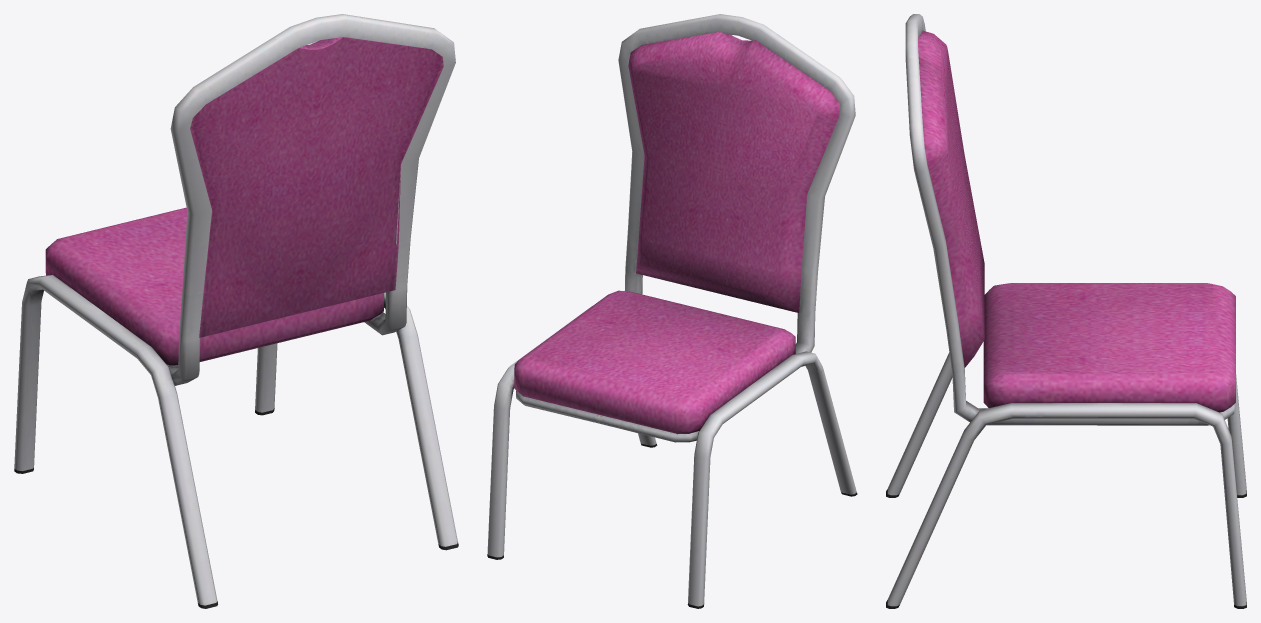
Rendered from furni_0200729.FBX.
3 views of the same model, side by side, from view 1: azimuth 30°, elevation 25°; view 2: azimuth 150°, elevation 25°; view 3: azimuth 270°, elevation 25° (orthographic). The views are drawn at different scales.
Visible parts, largest first — view 1: furni_0200729; view 2: furni_0200729; view 3: furni_0200729.
Boxes of the visible parts, <box> form: furni_0200729: <box>14,14,458,608</box>; furni_0200729: <box>487,14,857,608</box>; furni_0200729: <box>886,14,1246,608</box>.
Bounding box in the file's own units: 56.78 × 106 × 66.59.
1 material, 1 textured.
